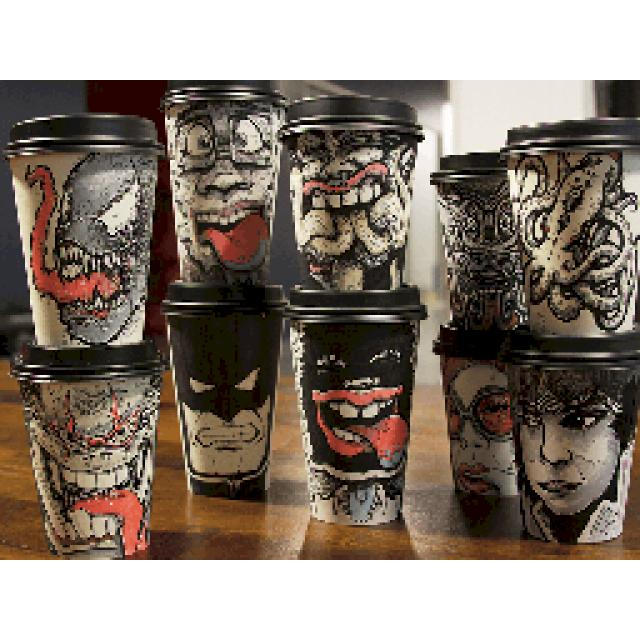paper_cups: (4, 111, 169, 348), (11, 335, 173, 560), (283, 286, 426, 524), (500, 118, 640, 338), (283, 91, 425, 294), (162, 276, 289, 502), (503, 342, 640, 542), (161, 80, 285, 292), (431, 328, 535, 505), (433, 150, 531, 330)
